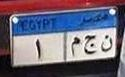1: (34, 38, 44, 61)
jeem: (83, 33, 98, 57)
meem: (69, 36, 81, 58)
noon: (99, 33, 114, 53)
